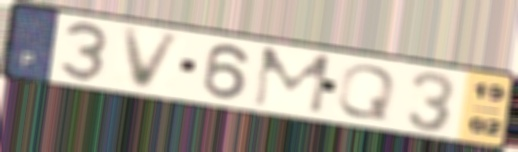3: (405, 68, 458, 134), (57, 20, 112, 83)
6: (202, 42, 254, 102)
M: (249, 45, 334, 117)
Q: (332, 63, 400, 123)
V: (119, 25, 188, 92)
